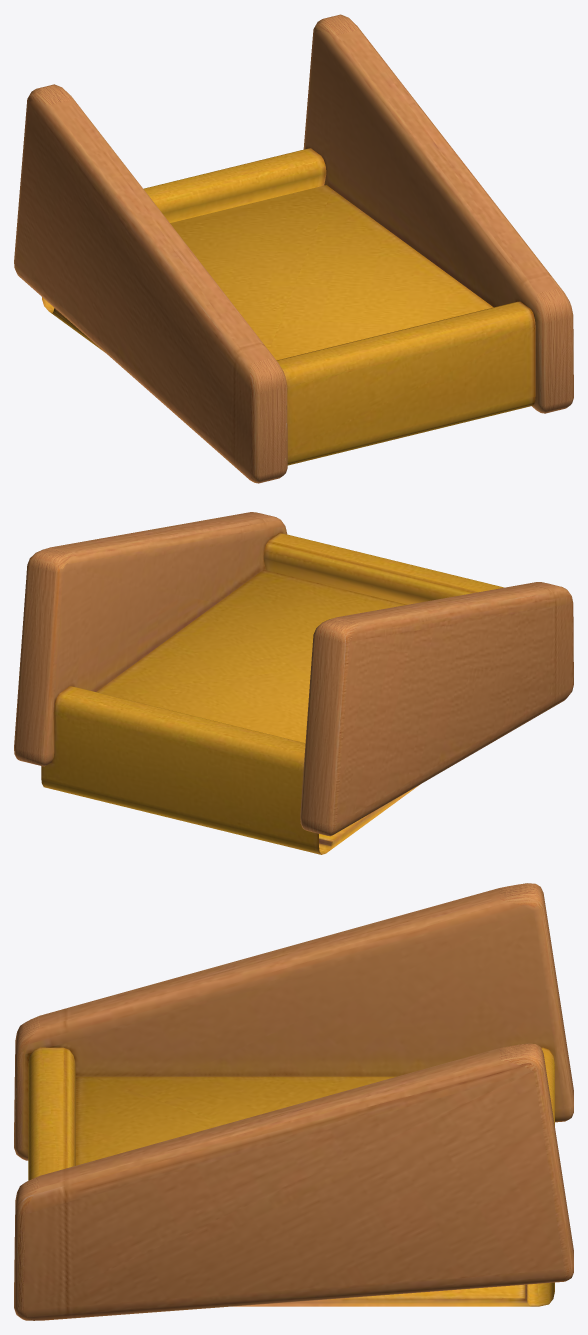
Rendered from bin-win.glb.
3 views of the same model, one above another, from view 1: azimuth 30°, elevation 25°; view 2: azimuth 150°, elevation 25°; view 3: azimuth 270°, elevation 25° (orthographic). The views are drawn at different scales.
Visible parts, largest first — view 1: tripo_node_40bbafb7-3902-4f63-bee9-5dc9e2bd719a; view 2: tripo_node_40bbafb7-3902-4f63-bee9-5dc9e2bd719a; view 3: tripo_node_40bbafb7-3902-4f63-bee9-5dc9e2bd719a.
Part boxes in pixels (left/top/right/bottom): tripo_node_40bbafb7-3902-4f63-bee9-5dc9e2bd719a: left=14, top=14, right=573, bottom=483; tripo_node_40bbafb7-3902-4f63-bee9-5dc9e2bd719a: left=14, top=512, right=573, bottom=854; tripo_node_40bbafb7-3902-4f63-bee9-5dc9e2bd719a: left=14, top=883, right=573, bottom=1320.
Size of the model in its own units: 0.7593 by 0.5269 by 0.9995.
Materials: 1 (1 with a texture image).
